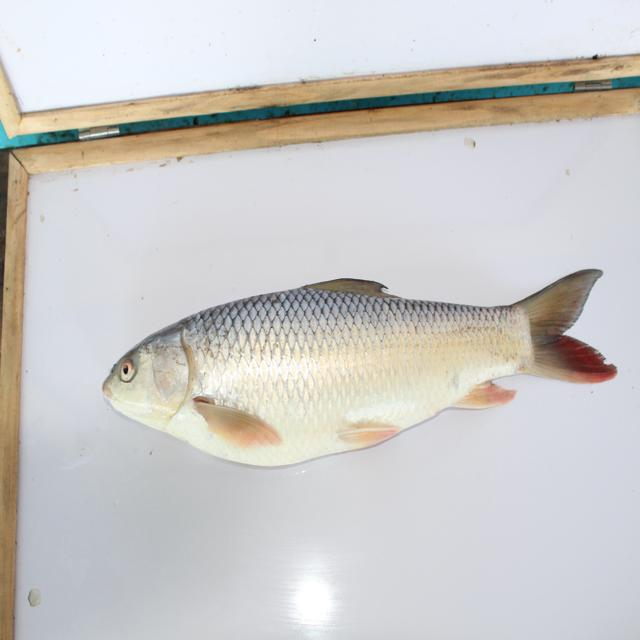Mori: (94, 265, 617, 482)
